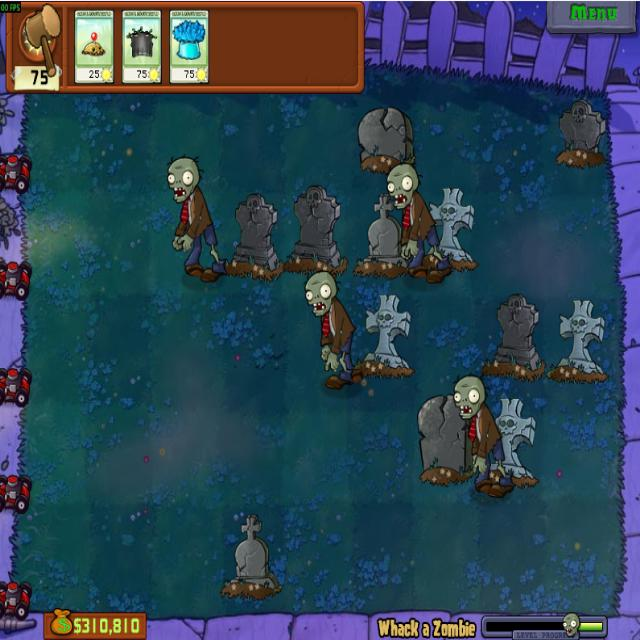grave: (282, 184, 349, 278), (478, 394, 542, 488), (480, 292, 546, 381), (413, 393, 475, 486), (549, 296, 611, 386), (354, 292, 416, 382), (224, 192, 284, 281), (221, 513, 282, 598), (352, 192, 411, 277), (424, 185, 478, 274), (357, 104, 416, 174), (552, 96, 608, 167)
gravebuster: (122, 9, 161, 83)
zombie: (303, 268, 338, 321), (165, 154, 202, 202), (450, 372, 487, 420), (386, 161, 422, 209)
